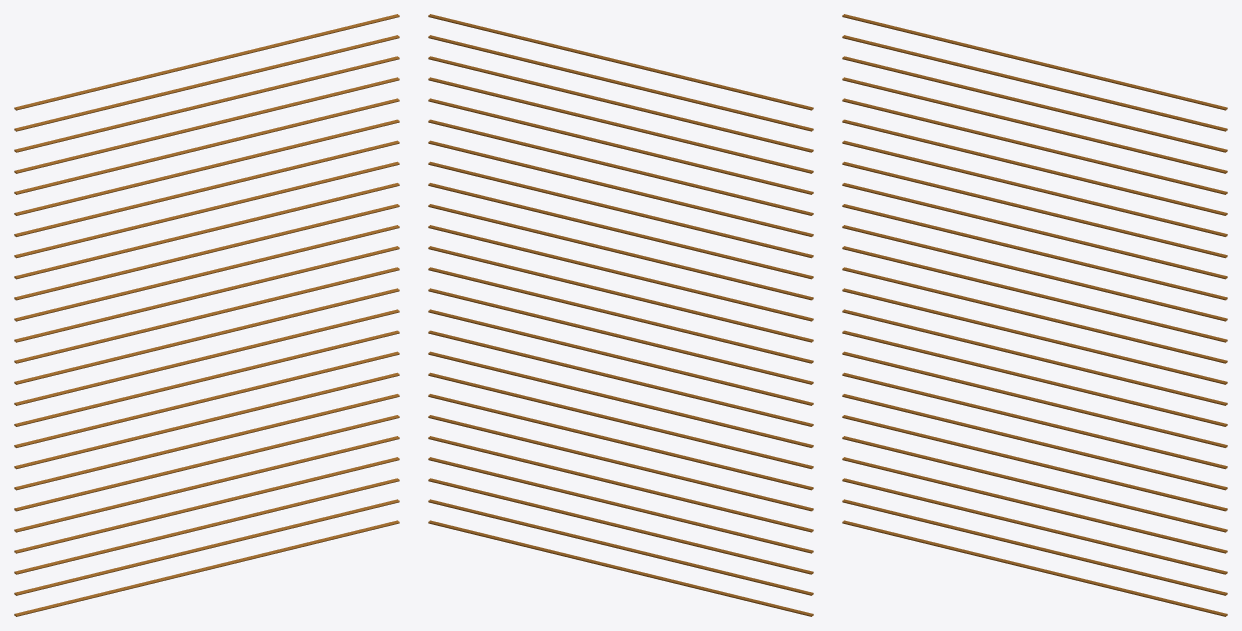
Rendered from Bamboo floor beam.obj.
The picture shows the model from 3 angles, left to right: view 1: azimuth 30°, elevation 25°; view 2: azimuth 150°, elevation 25°; view 3: azimuth 330°, elevation 25°; orthographic projection.
Visible parts, largest first — view 1: Bamboo_5cm_.001_Circle.009; view 2: Bamboo_5cm_.001_Circle.009; view 3: Bamboo_5cm_.001_Circle.009.
Part boxes in pixels (x1,y1,x2,y2): Bamboo_5cm_.001_Circle.009: (14, 14, 399, 616); Bamboo_5cm_.001_Circle.009: (428, 14, 813, 616); Bamboo_5cm_.001_Circle.009: (842, 14, 1227, 616).
Bounding box in the file's own units: 5700 × 7230 × 60.
